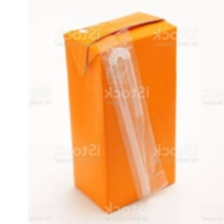carton: (64, 8, 180, 215)
